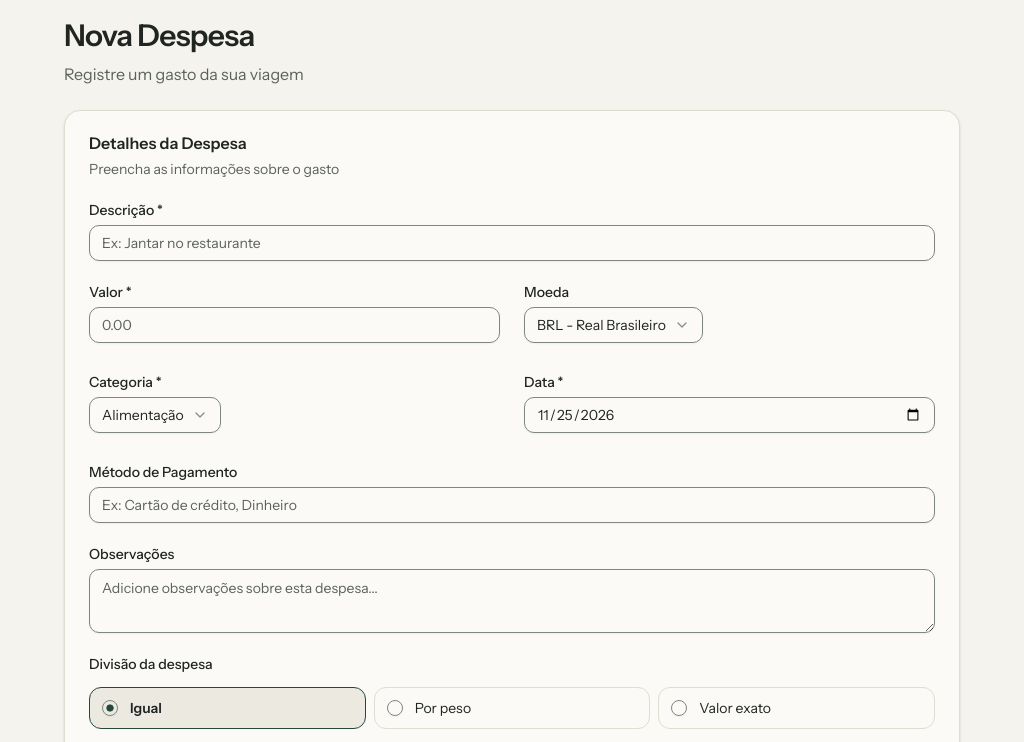
Scenario: Nova despesa — divisão por valor exato › mostra soma, quanto falta e quanto excede; só libera quando fecha
The width and height of the screenshot is (1024, 742).
Expected: the heading "Nova Despesa" is shown, [64,17,255,54]
Type "Jantar" into the field labelled "Descrição *" at (512, 243), box [89,225,935,261]
Type "100" into the number field labelled "Valor *" at (294, 325), box [89,307,500,343]
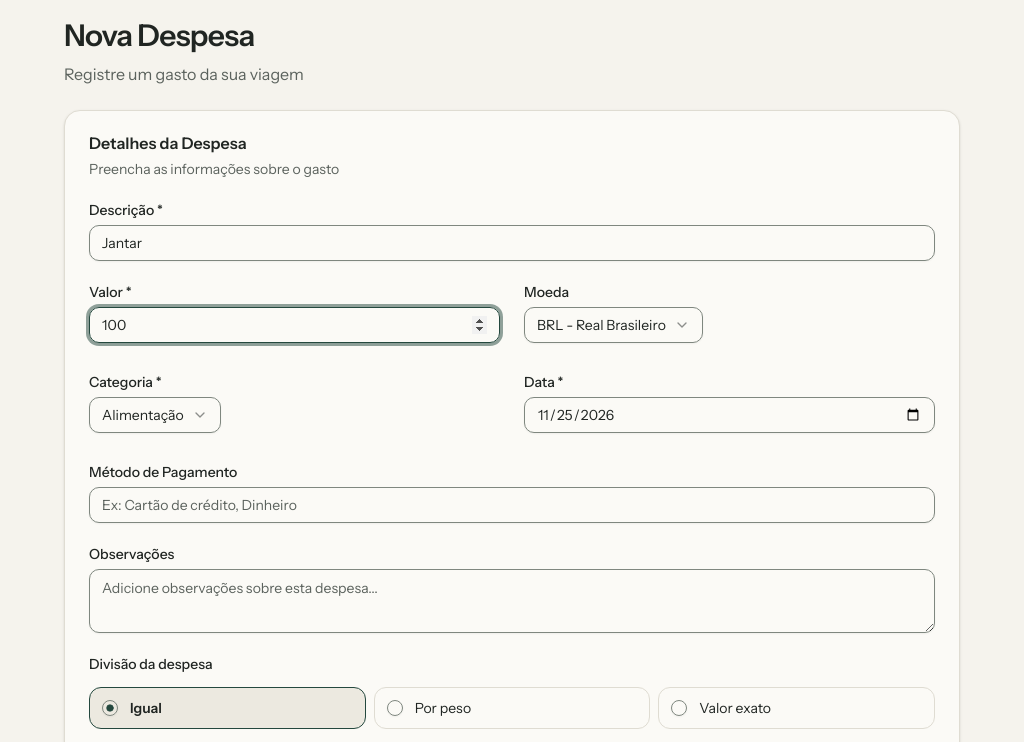
Click the radio button named "Valor exato" next to "Valor exato" at (679, 708), box [671,700,687,716]
(page scrolled)
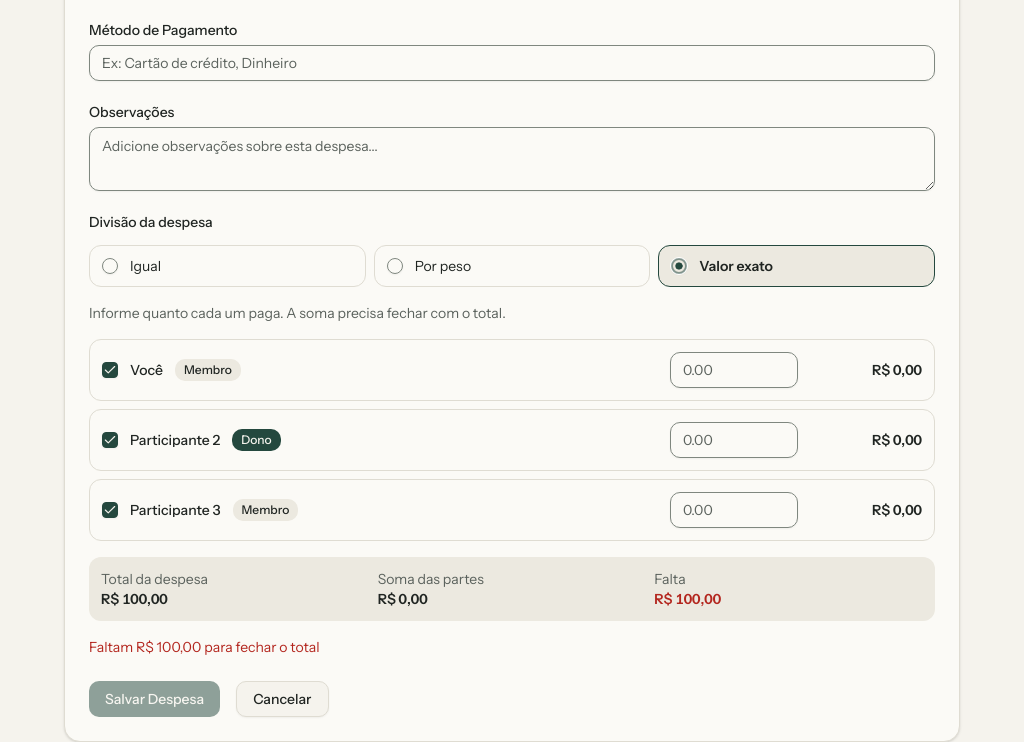
Type "50" into the number field named "Valor de Você" at (734, 370), box [670,352,798,388]
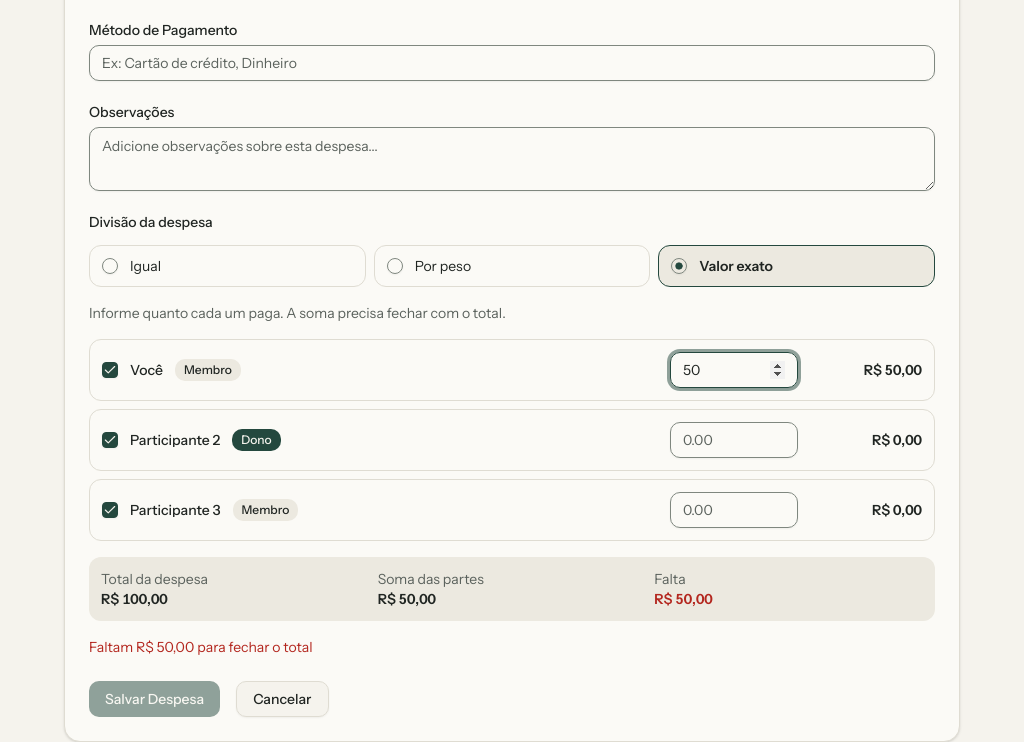
Type "30" into the number field named "Valor de Participante 2" at (734, 440), box [670,422,798,458]
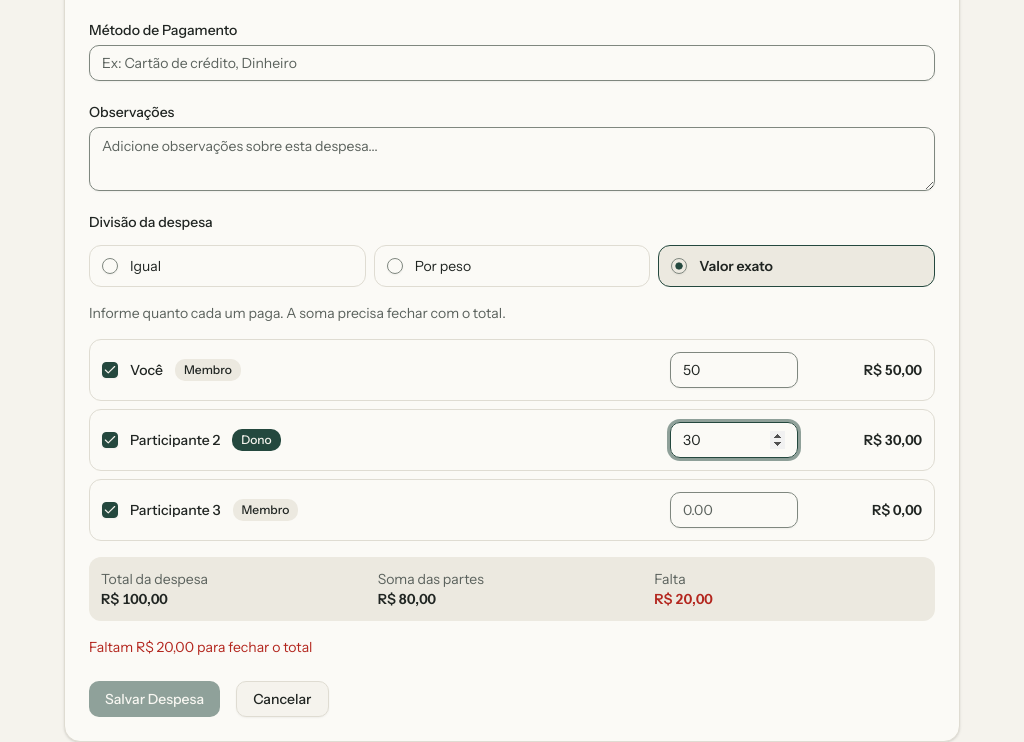
Expected: the text "Falta" is shown, [654,570,686,588]
Expected: the text with test id "rateio-soma" reads "R$ 80,00", [378,590,436,608]
Expected: the text with test id "rateio-diferenca" reads "R$ 20,00", [654,590,713,608]
Type "30" into the number field named "Valor de Participante 3" at (734, 510), box [670,492,798,528]
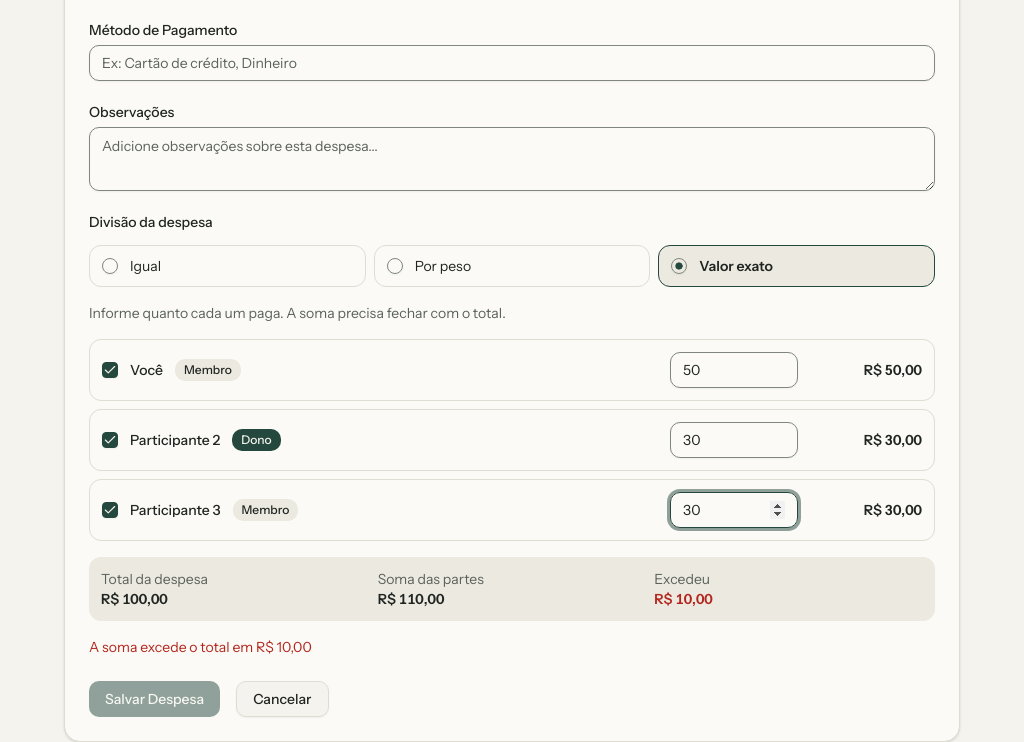
Expected: the text "Excedeu" is shown, [654,570,710,588]
Expected: the text with test id "rateio-diferenca" reads "R$ 10,00", [654,590,713,608]
Expected: the message with id "rateio-status" reads "A soma excede o total em R$ 10,00", [89,638,312,656]
Replace the text in the number field named "Valor de Participante 3" with "20" at (734, 510), box [670,492,798,528]
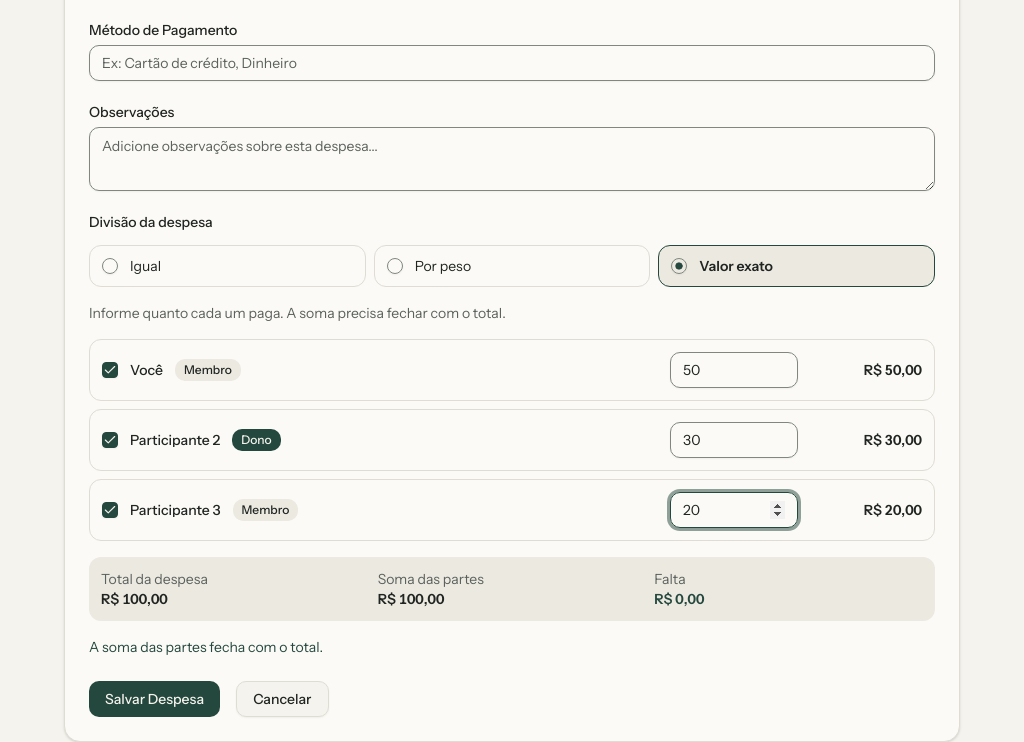
Expected: the text with test id "rateio-diferenca" reads "R$ 0,00", [654,590,704,608]
Expected: the button "Salvar Despesa" is enabled, [89,681,220,717]
